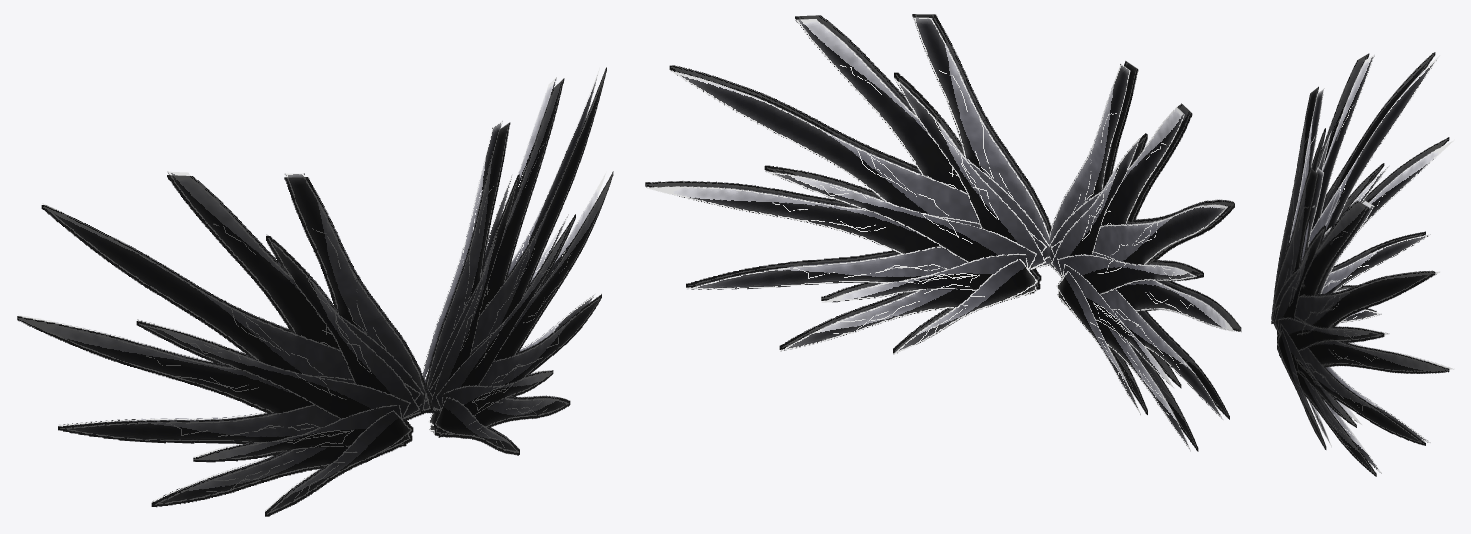
Rendered from monochrome_shard_wings.glb.
3 views of the same model, side by side, from view 1: azimuth 30°, elevation 25°; view 2: azimuth 150°, elevation 25°; view 3: azimuth 270°, elevation 25° (orthographic). The views are drawn at different scales.
Parts seen in each view (by area): view 1: Monochrome Shard Wings Wing Right, Monochrome Shard Wings Wing Left; view 2: Monochrome Shard Wings Wing Left, Monochrome Shard Wings Wing Right; view 3: Monochrome Shard Wings Wing Left, Monochrome Shard Wings Wing Right.
Boxes of the visible parts, bbox=[...] form: Monochrome Shard Wings Wing Right: bbox=[17, 171, 432, 516]; Monochrome Shard Wings Wing Left: bbox=[421, 67, 613, 455]; Monochrome Shard Wings Wing Left: bbox=[645, 14, 1051, 354]; Monochrome Shard Wings Wing Right: bbox=[1049, 61, 1241, 451]; Monochrome Shard Wings Wing Left: bbox=[1271, 167, 1454, 476]; Monochrome Shard Wings Wing Right: bbox=[1271, 52, 1454, 337].
Bounding box in the file's own units: 2 × 1.09 × 0.6774.
Materials: 2 (2 with a texture image).
